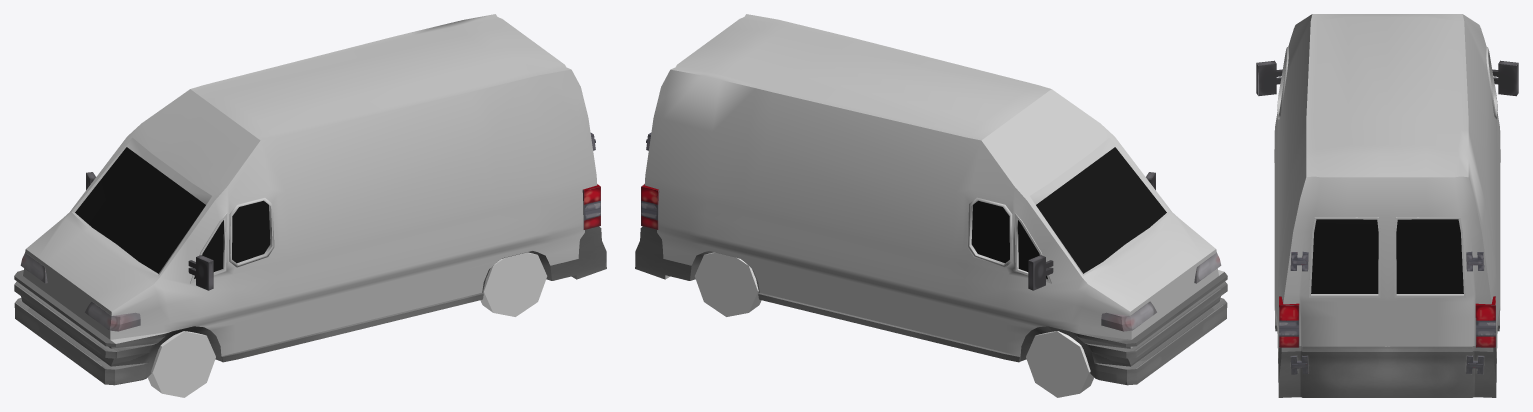
File: White Van.fbx
The picture shows the model from 3 angles, left to right: view 1: azimuth 30°, elevation 25°; view 2: azimuth 150°, elevation 25°; view 3: azimuth 270°, elevation 25°; orthographic projection. The views are drawn at different scales.
Parts seen in each view (by area): view 1: Cube, Van_Wheel_FrontLeft, Van_Wheel_BackLeft; view 2: Cube, Van_Wheel_FrontRight, Van_Wheel_BackRight; view 3: Cube.
Boxes of the visible parts, x1=… form: Cube: x1=14, y1=14, x2=606, y2=385; Van_Wheel_FrontLeft: x1=147, y1=331, x2=215, y2=397; Van_Wheel_BackLeft: x1=480, y1=252, x2=547, y2=316; Cube: x1=635, y1=14, x2=1227, y2=385; Van_Wheel_FrontRight: x1=1026, y1=331, x2=1094, y2=397; Van_Wheel_BackRight: x1=694, y1=252, x2=761, y2=316; Cube: x1=1256, y1=14, x2=1518, y2=397.
Size of the model in its own units: 466 by 204 by 199.
